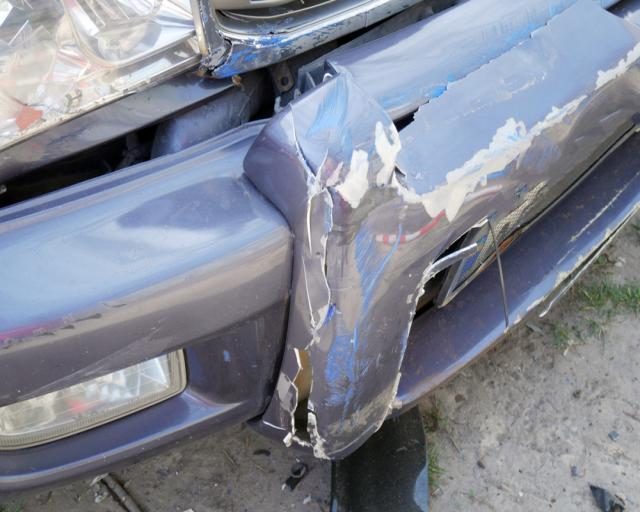crack: (289, 347, 313, 456)
scratch: (323, 220, 392, 440), (0, 297, 130, 355)
